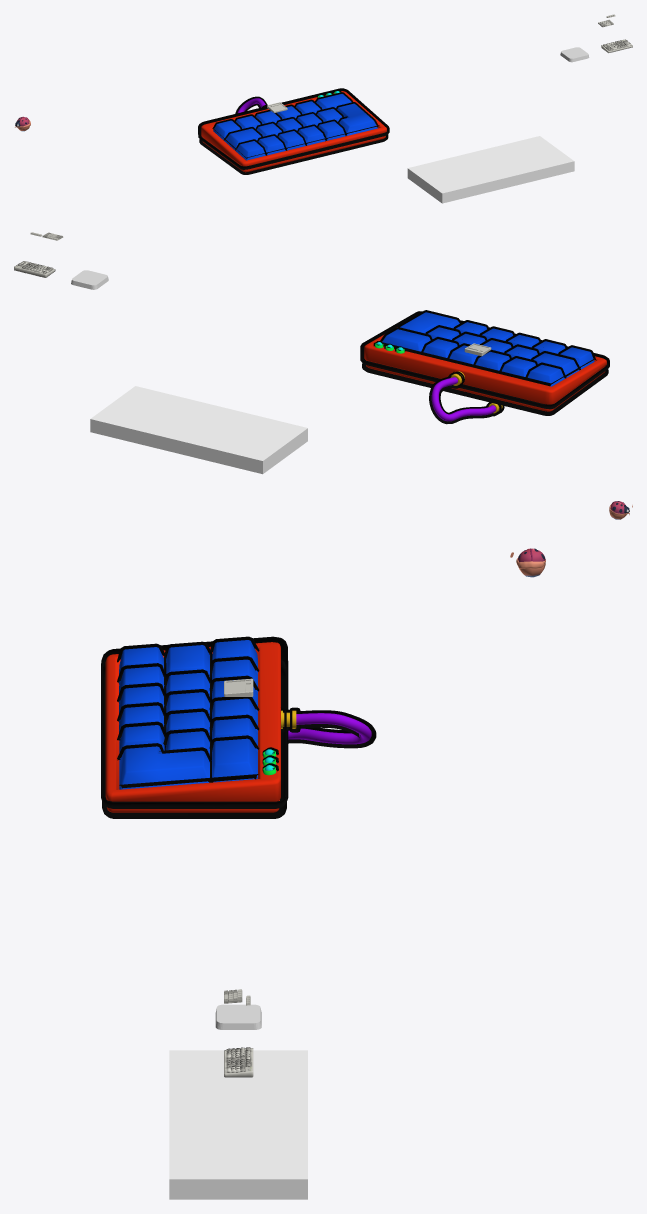
Rendered from keyboard.gltf.
The picture shows the model from 3 angles, top to bottom: view 1: azimuth 30°, elevation 25°; view 2: azimuth 150°, elevation 25°; view 3: azimuth 270°, elevation 25°; orthographic projection. The views are drawn at different scales.
Parts seen in each view (by area): view 1: board, Plane.002, light1Outline, Plane; view 2: board, Plane.002, light1Outline, Plane, LP; view 3: board, Plane.002, light1Outline, Plane, LP.
Part boxes in pixels (bbox=[...]): board: bbox=[201, 91, 386, 172]; Plane.002: bbox=[407, 136, 574, 203]; light1Outline: bbox=[198, 88, 389, 174]; Plane: bbox=[560, 47, 589, 62]; board: bbox=[364, 312, 606, 421]; Plane.002: bbox=[90, 386, 307, 474]; light1Outline: bbox=[360, 310, 609, 424]; Plane: bbox=[71, 270, 108, 289]; LP: bbox=[14, 261, 55, 277]; board: bbox=[105, 640, 371, 812]; Plane.002: bbox=[169, 1050, 307, 1199]; light1Outline: bbox=[101, 636, 376, 818]; Plane: bbox=[215, 1004, 261, 1029]; LP: bbox=[224, 1047, 253, 1077].
Size of the model in its own units: 54.25 by 12.2 by 19.28.
Materials: 7 (2 with a texture image).
